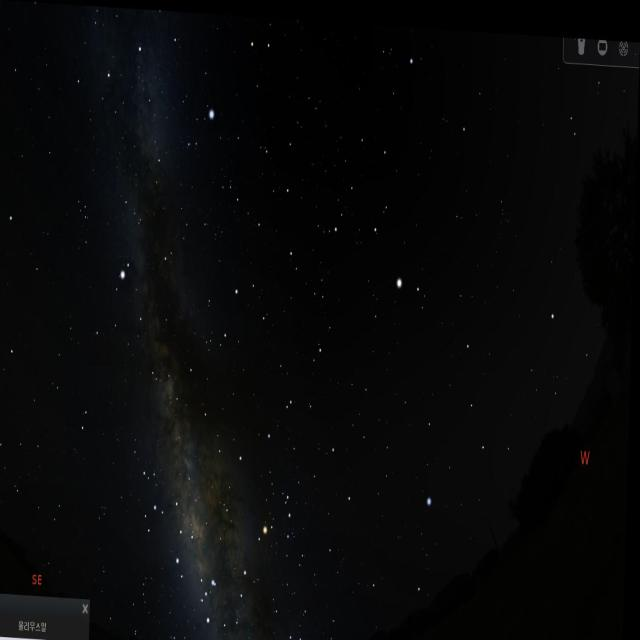aquila: (101, 242, 178, 396)
bootes: (339, 132, 428, 300)
lyra: (184, 102, 218, 158)
sagittarius: (121, 446, 212, 580)
scorpius: (203, 469, 304, 633)
